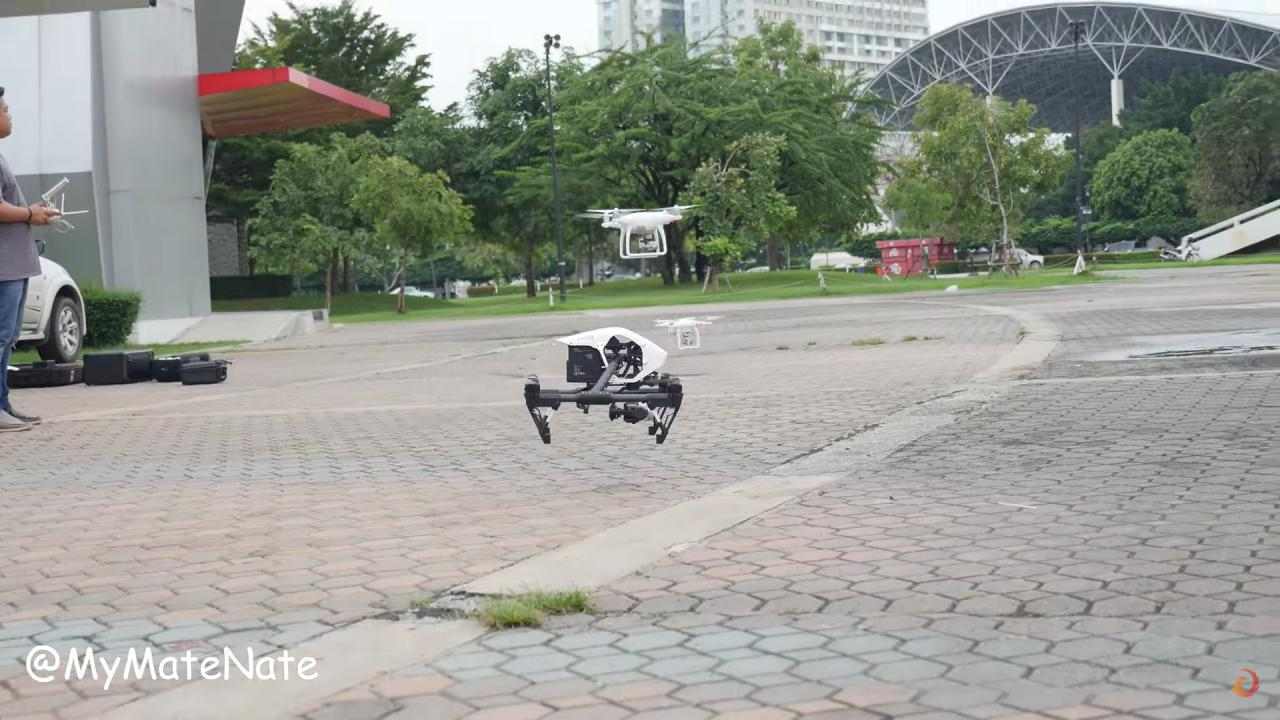Drone: (514, 318, 693, 456), (573, 200, 715, 266), (645, 309, 732, 356)
